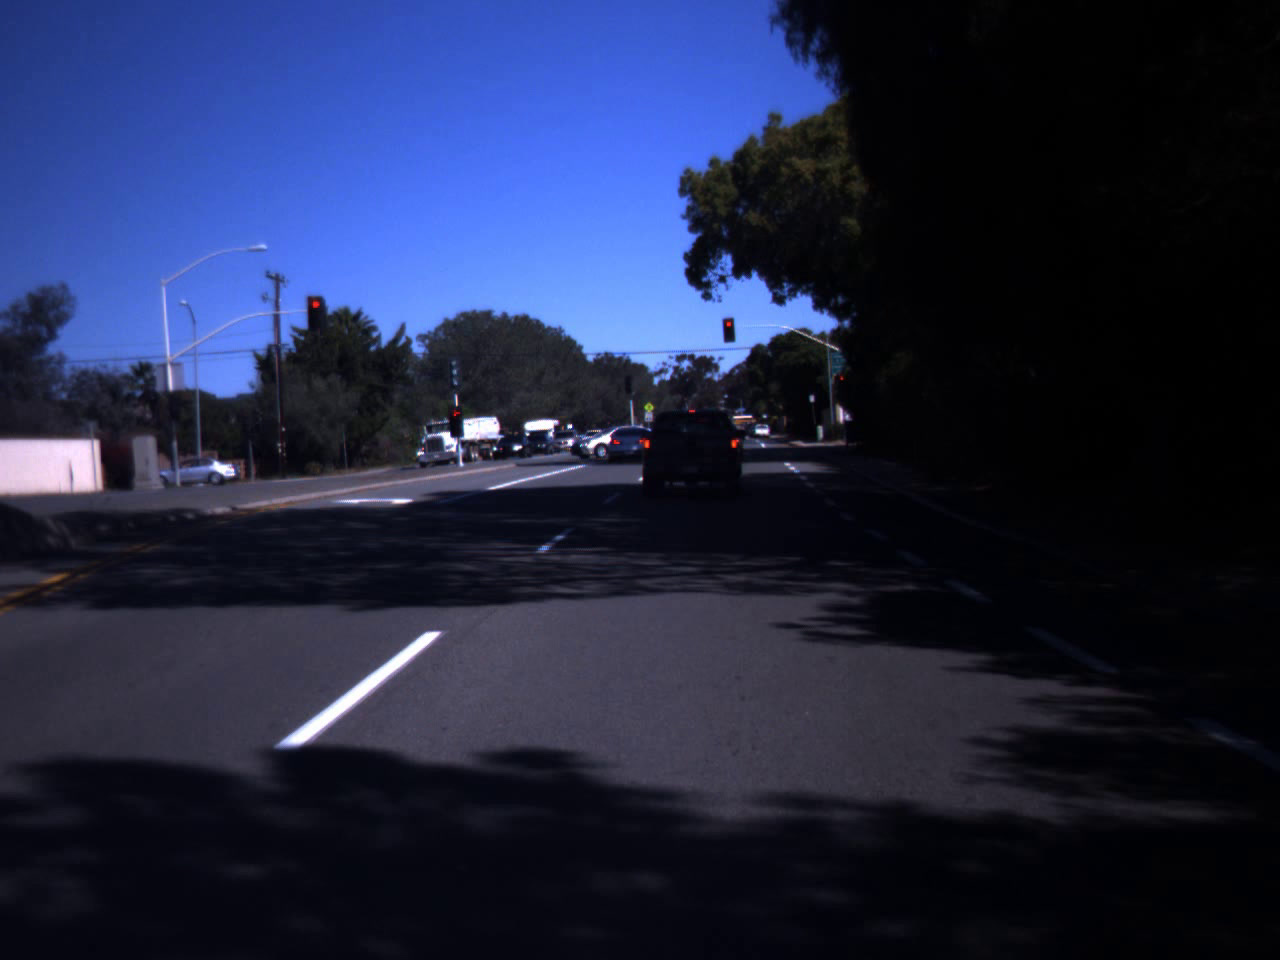stop: (449, 410, 464, 428), (310, 299, 322, 321), (722, 320, 734, 338), (836, 374, 848, 392)
